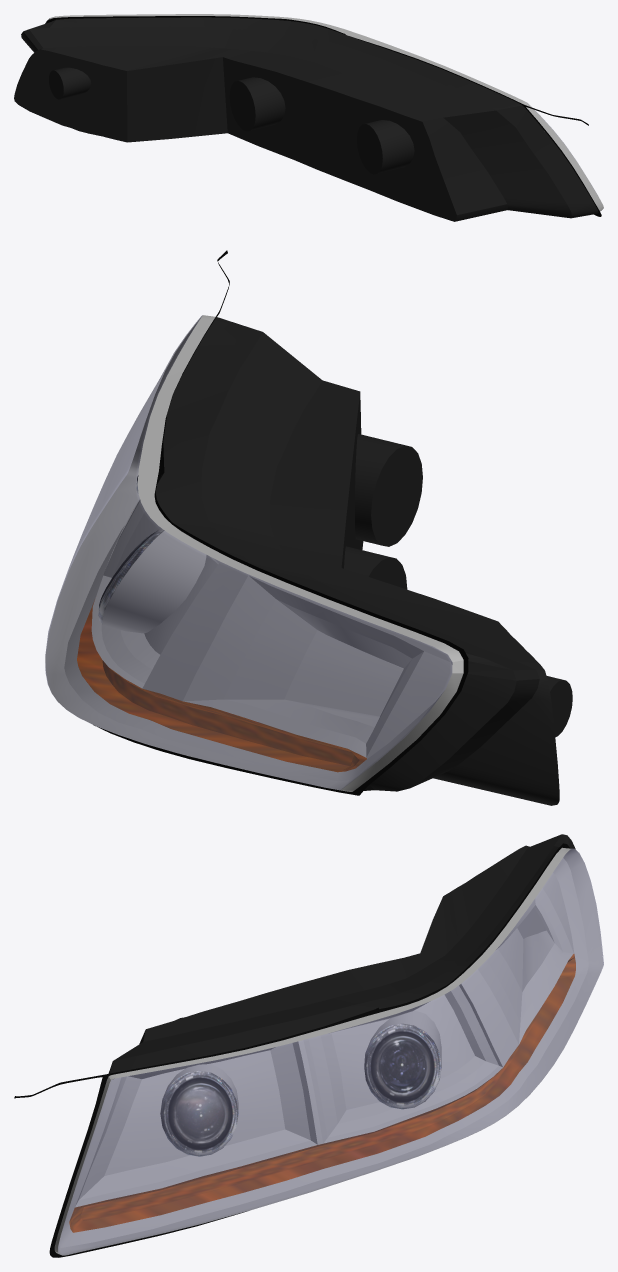
3 renders of one model, top to bottom at view 1: azimuth 30°, elevation 25°; view 2: azimuth 150°, elevation 25°; view 3: azimuth 270°, elevation 25°, orthographic. The views are drawn at different scales.
Visible parts, largest first — view 1: H128_061B_L_1_N_H128_061B_L, H128_061B_L_H128_061B_L_3_N, H128_061B_L_H128_061B_L_8_D; view 2: H128_061B_L_1_N_H128_061B_L, H128_061B_L_H128_061B_L_3_N, H128_061B_L_H128_061B_L_7_DTaSI, H128_061B_L_H128_061B_L_6_DTaSI, H128_061B_L_H128_061B_L_4_N, H128_061B_L_H128_061B_L_8_D, H128_061B_L_H128_061B_L_2_N; view 3: H128_061B_L_H128_061B_L_7_DTaSI, H128_061B_L_H128_061B_L_3_N, H128_061B_L_1_N_H128_061B_L, H128_061B_L_H128_061B_L_6_DTaSI, H128_061B_L_H128_061B_L_4_N, H128_061B_L_H128_061B_L_5_N, H128_061B_L_H128_061B_L_2_N, H128_061B_L_H128_061B_L_8_D.
Part boxes in pixels (x1=…): H128_061B_L_1_N_H128_061B_L: x1=14, y1=17, x2=598, y2=221; H128_061B_L_H128_061B_L_3_N: x1=46, y1=14, x2=603, y2=211; H128_061B_L_H128_061B_L_8_D: x1=45, y1=16, x2=601, y2=216; H128_061B_L_1_N_H128_061B_L: x1=155, y1=317, x2=572, y2=805; H128_061B_L_H128_061B_L_3_N: x1=45, y1=315, x2=463, y2=791; H128_061B_L_H128_061B_L_7_DTaSI: x1=59, y1=315, x2=452, y2=761; H128_061B_L_H128_061B_L_6_DTaSI: x1=45, y1=429, x2=376, y2=789; H128_061B_L_H128_061B_L_4_N: x1=77, y1=601, x2=366, y2=772; H128_061B_L_H128_061B_L_8_D: x1=93, y1=250, x2=468, y2=795; H128_061B_L_H128_061B_L_2_N: x1=98, y1=528, x2=164, y2=624; H128_061B_L_H128_061B_L_7_DTaSI: x1=67, y1=849, x2=600, y2=1215; H128_061B_L_H128_061B_L_3_N: x1=54, y1=847, x2=603, y2=1255; H128_061B_L_1_N_H128_061B_L: x1=108, y1=834, x2=575, y2=1073; H128_061B_L_H128_061B_L_6_DTaSI: x1=58, y1=932, x2=603, y2=1255; H128_061B_L_H128_061B_L_4_N: x1=69, y1=954, x2=575, y2=1232; H128_061B_L_H128_061B_L_5_N: x1=160, y1=1070, x2=238, y2=1156; H128_061B_L_H128_061B_L_2_N: x1=364, y1=1023, x2=441, y2=1109; H128_061B_L_H128_061B_L_8_D: x1=14, y1=843, x2=570, y2=1257.
Bounding box in the file's own units: 55.93 × 19.09 × 54.07.
